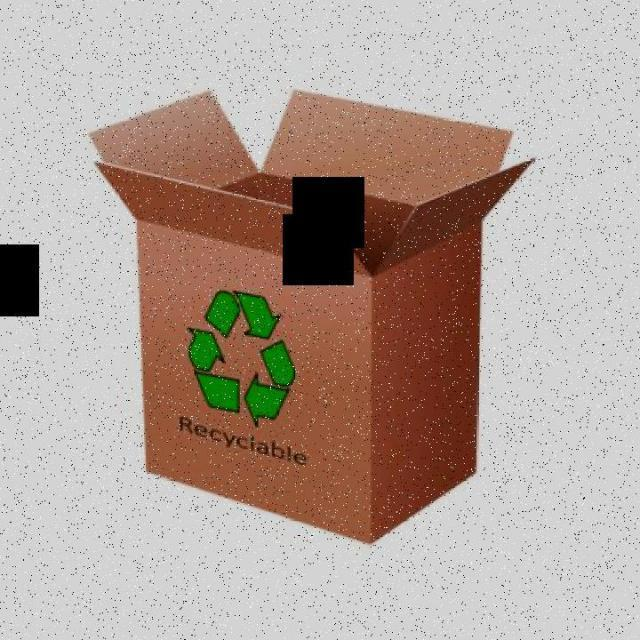box: (83, 80, 542, 556)
